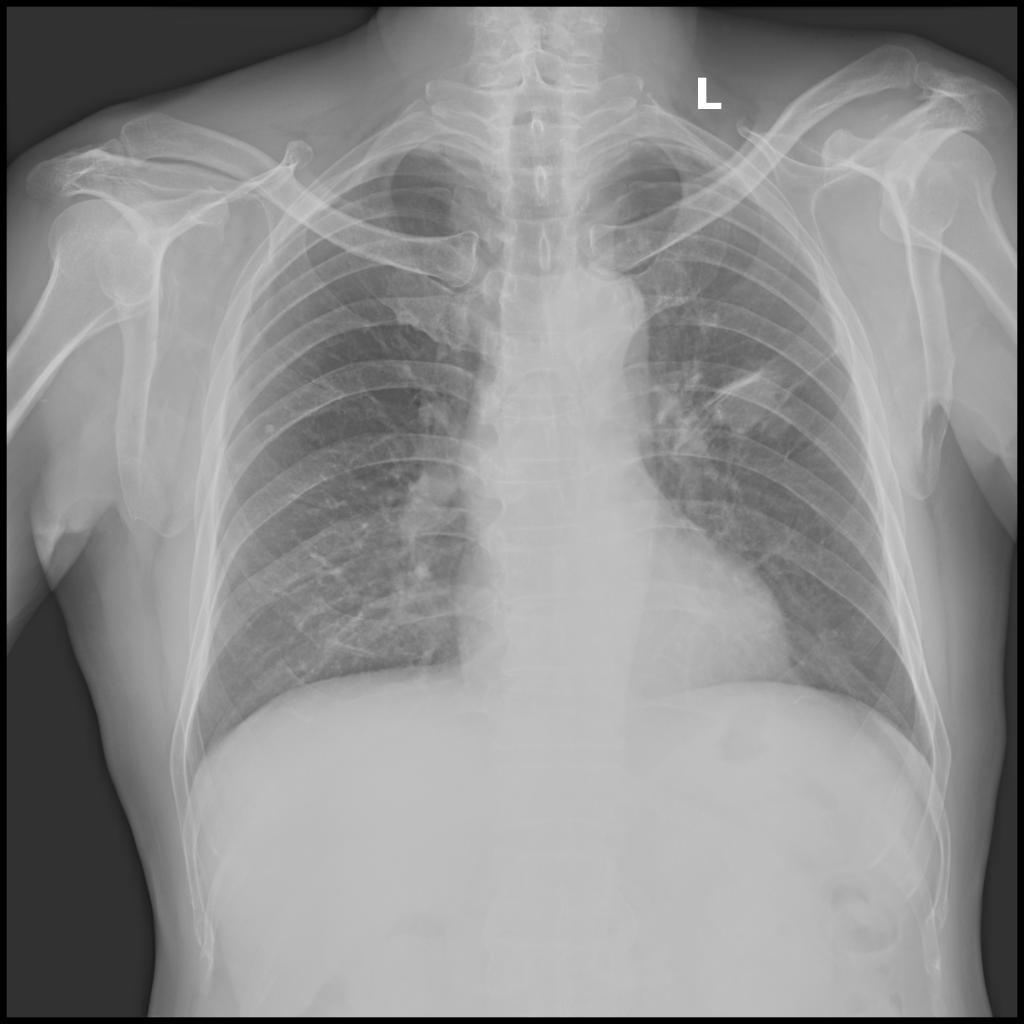Nodule: (707, 365, 776, 437)
